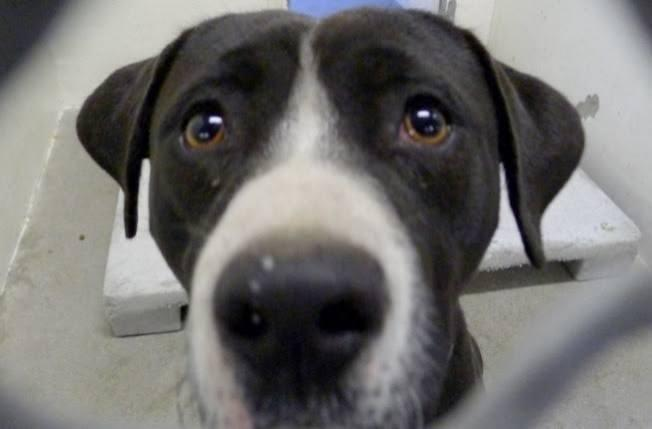adult_dog: (72, 6, 588, 429)
